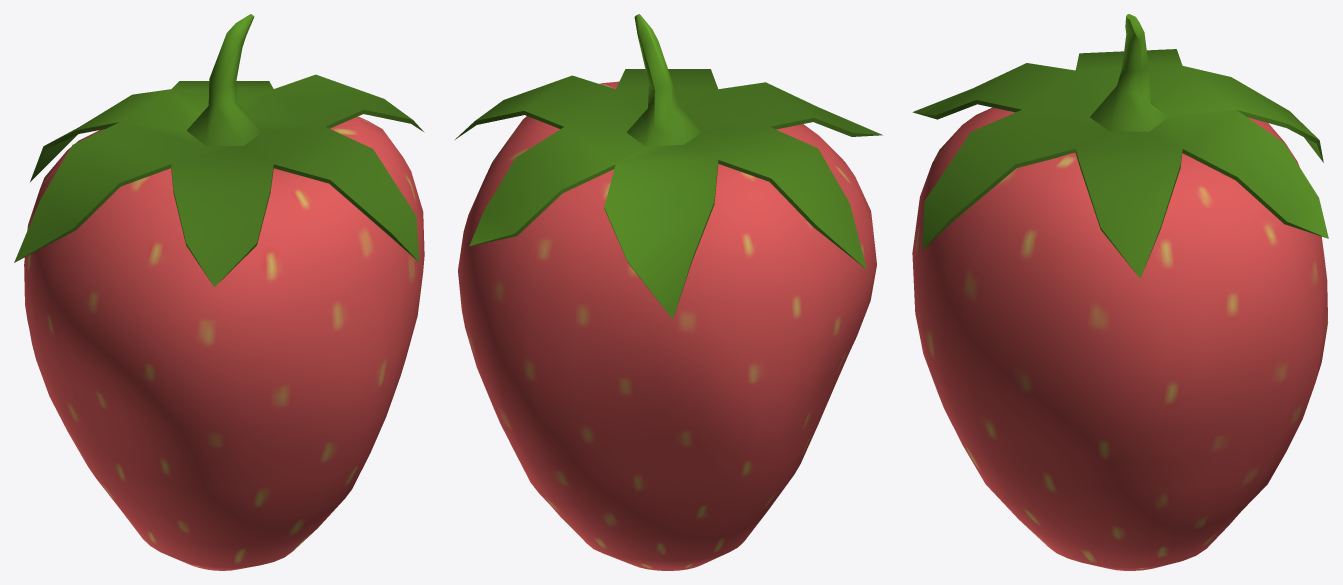
Rendered from Strawberry_Whole.fbx.
The picture shows the model from 3 angles, left to right: view 1: azimuth 30°, elevation 25°; view 2: azimuth 150°, elevation 25°; view 3: azimuth 270°, elevation 25°; orthographic projection. The views are drawn at different scales.
Visible parts, largest first — view 1: Sphere.011; view 2: Sphere.011; view 3: Sphere.011.
Boxes of the visible parts, <box> form: Sphere.011: <box>14,14,424,570</box>; Sphere.011: <box>455,14,882,570</box>; Sphere.011: <box>912,14,1328,570</box>.
Bounding box in the file's own units: 54.2 × 67.68 × 45.55.
